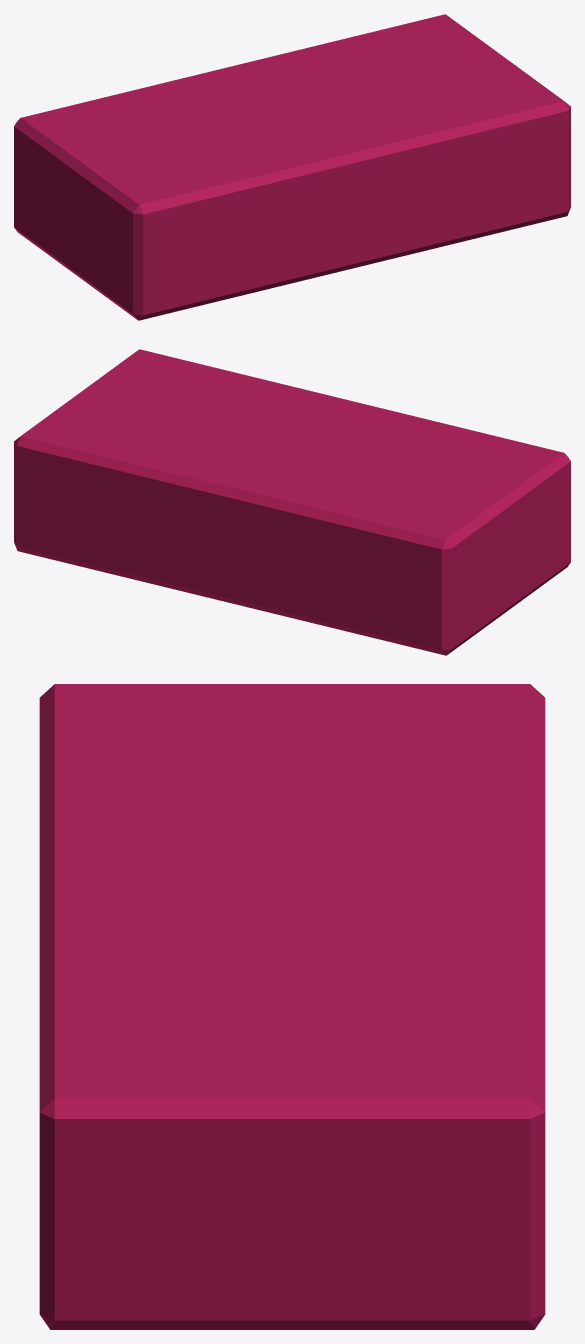
3 views of the same model, one above another, from view 1: azimuth 30°, elevation 25°; view 2: azimuth 150°, elevation 25°; view 3: azimuth 270°, elevation 25° (orthographic). The views are drawn at different scales.
Parts seen in each view (by area): view 1: Part_2X1X0_low; view 2: Part_2X1X0_low; view 3: Part_2X1X0_low.
Part boxes in pixels (x1,y1,x2,y2): Part_2X1X0_low: (14, 14, 570, 320); Part_2X1X0_low: (14, 349, 570, 655); Part_2X1X0_low: (39, 684, 545, 1329).
Bounding box in the file's own units: 200 × 50 × 100.
